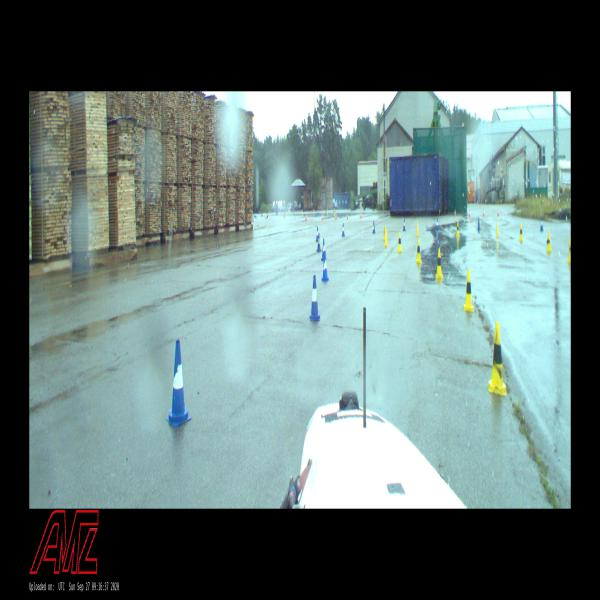blue_cone: (166, 339, 191, 427), (310, 276, 320, 321), (322, 252, 329, 281), (317, 232, 321, 252), (341, 223, 345, 237), (322, 239, 324, 261), (436, 217, 439, 231), (403, 218, 406, 231), (372, 220, 375, 233), (540, 217, 543, 230), (477, 217, 480, 230), (316, 226, 318, 242), (255, 211, 257, 218), (325, 209, 327, 216), (266, 212, 268, 218), (253, 211, 255, 217), (261, 211, 263, 217), (317, 210, 318, 216), (293, 210, 294, 214)
orange_cone: (468, 208, 470, 217), (497, 208, 499, 216), (360, 211, 362, 218), (454, 209, 456, 216), (305, 214, 307, 221), (265, 212, 267, 219), (335, 213, 337, 219), (308, 211, 310, 217), (283, 212, 285, 218), (483, 208, 484, 217), (322, 214, 323, 220), (347, 214, 348, 218)
yellow_cone: (488, 324, 507, 395), (464, 268, 474, 312), (436, 249, 443, 277), (415, 239, 422, 262), (546, 231, 552, 252), (567, 238, 571, 264), (384, 230, 388, 246), (398, 231, 401, 252), (519, 224, 523, 239), (456, 222, 460, 236), (383, 224, 386, 240), (496, 223, 499, 237), (416, 222, 419, 235), (313, 208, 315, 214), (327, 208, 328, 215), (270, 210, 271, 216), (302, 209, 303, 213), (334, 210, 334, 216)
